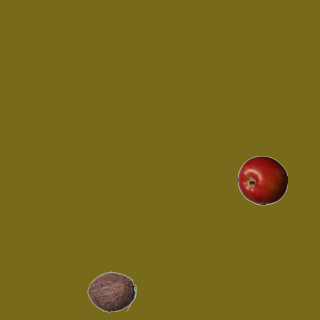Apple Braeburn: (237, 155, 287, 205)
Cocos: (86, 266, 136, 316)
